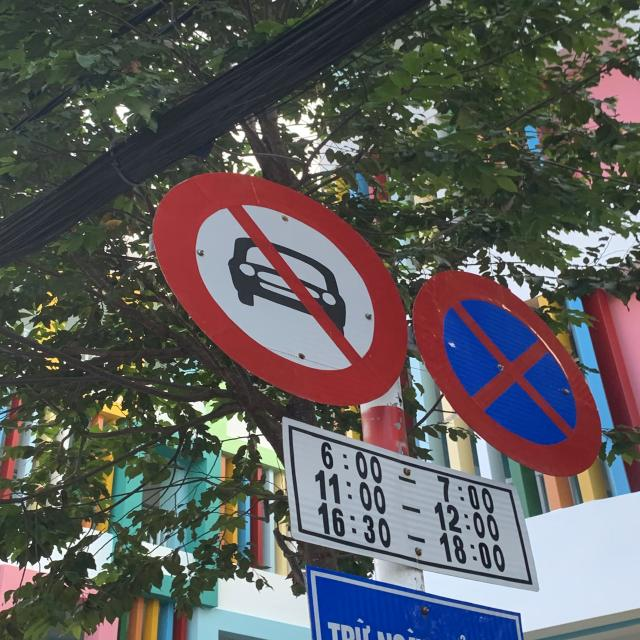Cam_Dung_Va_Dau_Xe: (414, 268, 602, 478)
Cam_O_To: (153, 173, 411, 407)
